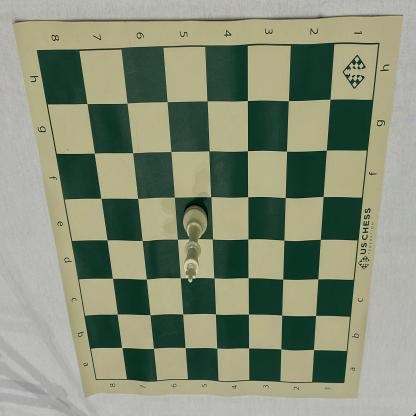white-king: (182, 204, 208, 283)
